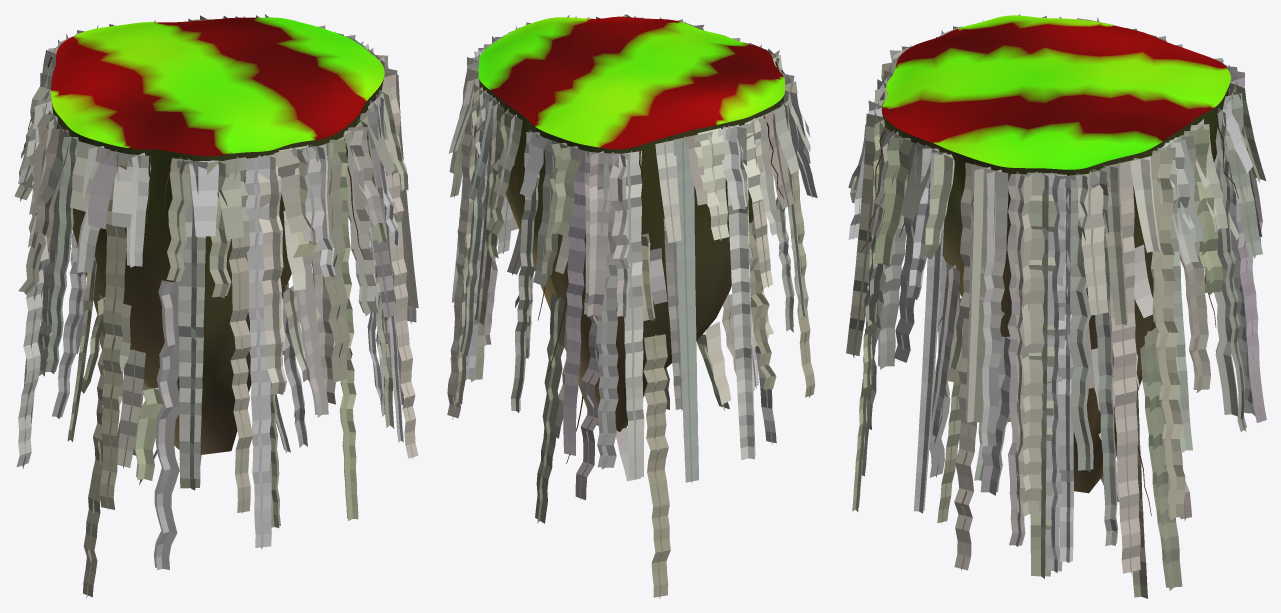
The model's file is SM_H01_Floater01.fbx.
3 renders of one model, left to right at view 1: azimuth 30°, elevation 25°; view 2: azimuth 150°, elevation 25°; view 3: azimuth 270°, elevation 25°, orthographic. The views are drawn at different scales.
Parts seen in each view (by area): view 1: SM_H01_Floater01_Ivy, SM_H01_Floater01; view 2: SM_H01_Floater01_Ivy, SM_H01_Floater01; view 3: SM_H01_Floater01_Ivy, SM_H01_Floater01.
Boxes of the visible parts, left/top/right/bottom form: SM_H01_Floater01_Ivy: left=14, top=14, right=418, bottom=597; SM_H01_Floater01: left=51, top=17, right=384, bottom=454; SM_H01_Floater01_Ivy: left=447, top=14, right=817, bottom=598; SM_H01_Floater01: left=478, top=16, right=784, bottom=431; SM_H01_Floater01_Ivy: left=846, top=14, right=1266, bottom=598; SM_H01_Floater01: left=881, top=15, right=1230, bottom=493.
Size of the model in its own units: 28.64 by 40.48 by 27.67.
